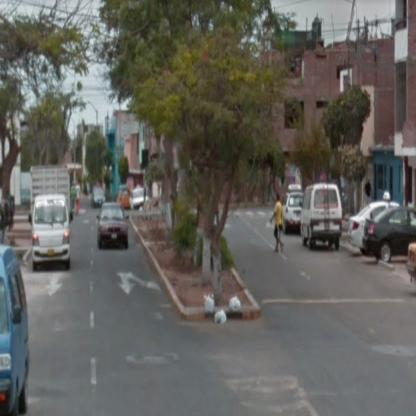Peaton: (270, 198, 285, 256), (76, 181, 82, 216)
Pista: (31, 206, 235, 413), (217, 206, 412, 414)
Vehiculo: (2, 244, 31, 414), (31, 165, 73, 274), (349, 193, 401, 254), (363, 209, 416, 264), (302, 182, 341, 252), (99, 202, 130, 251), (283, 185, 306, 238), (118, 190, 132, 210)
